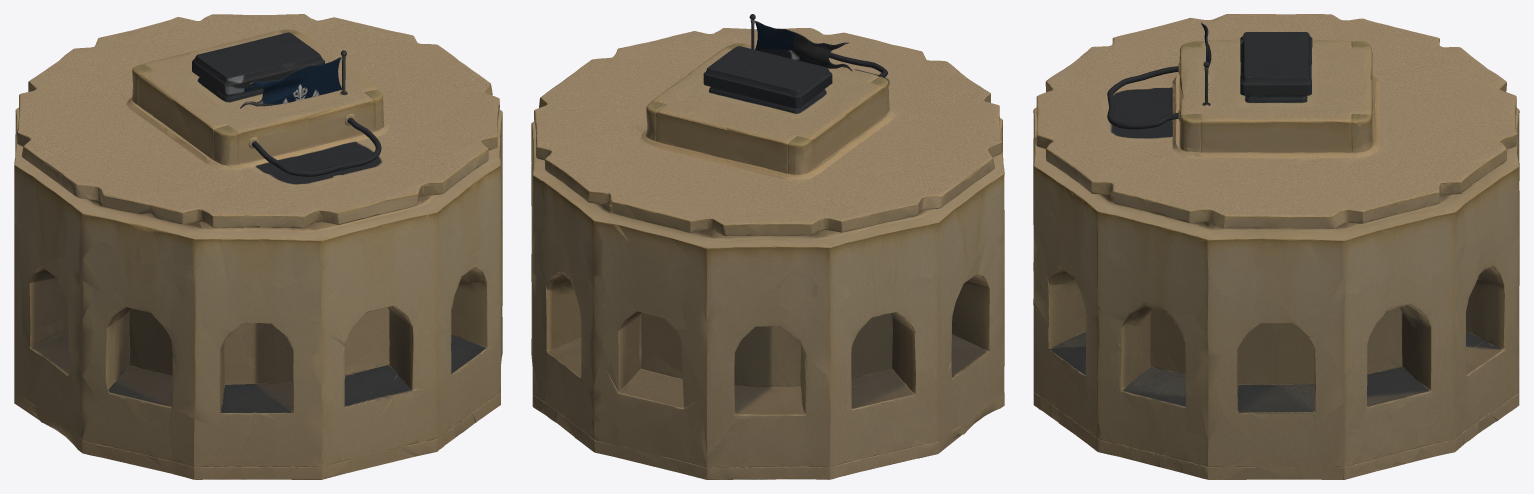
The model's file is bunker.glb.
The picture shows the model from 3 angles, left to right: view 1: azimuth 30°, elevation 25°; view 2: azimuth 150°, elevation 25°; view 3: azimuth 270°, elevation 25°; orthographic projection. The views are drawn at different scales.
Size of the model in its own units: 1.9 by 1.47 by 1.9.
1 material, 1 textured.
